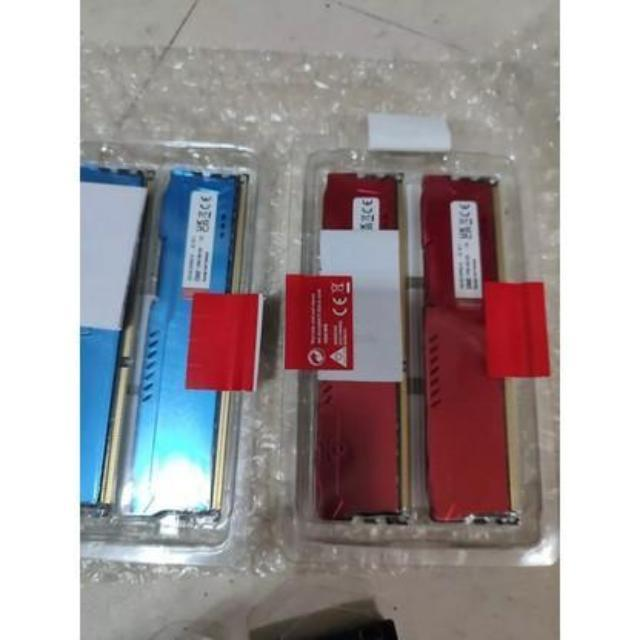RAM: (115, 160, 248, 531), (418, 170, 520, 528), (322, 166, 412, 524)
